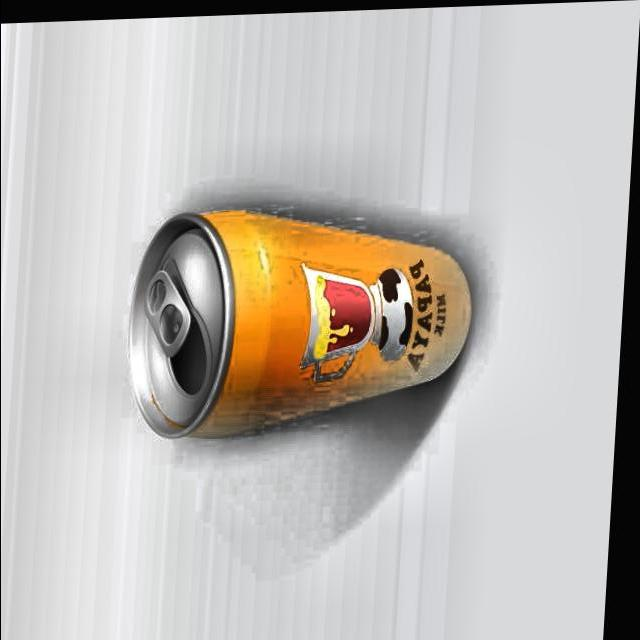litter: (118, 195, 489, 446)
